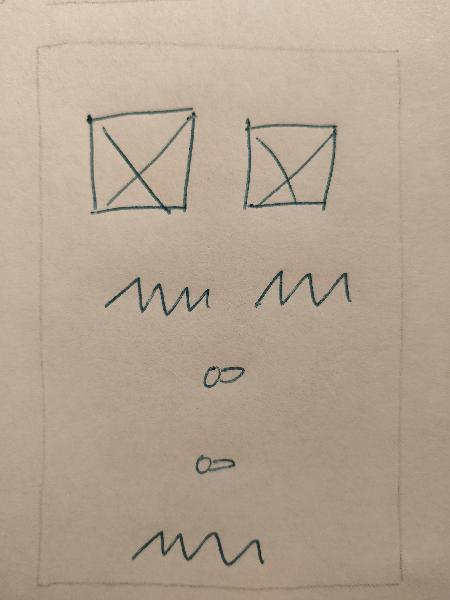image: (72, 103, 206, 218), (234, 108, 346, 220)
switch: (187, 353, 264, 396), (187, 445, 244, 480)
text: (120, 510, 276, 576), (93, 268, 223, 321), (245, 262, 361, 318)
